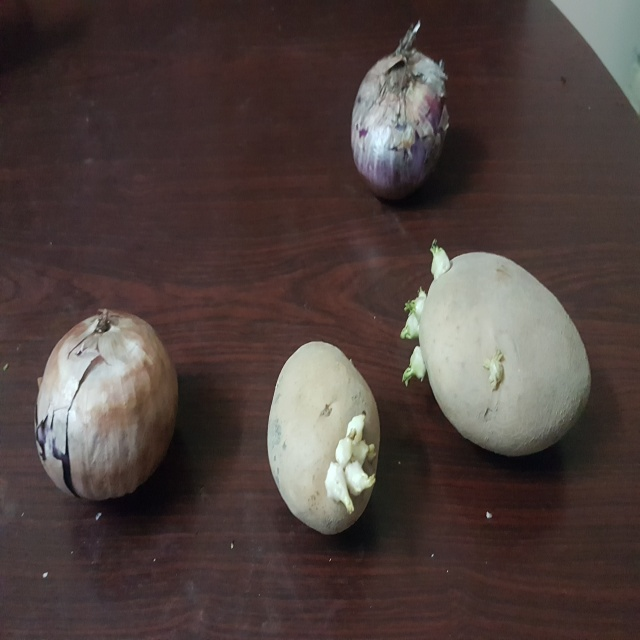onion: (25, 302, 199, 504), (345, 17, 461, 206)
potato: (384, 238, 601, 472), (267, 339, 396, 538)
